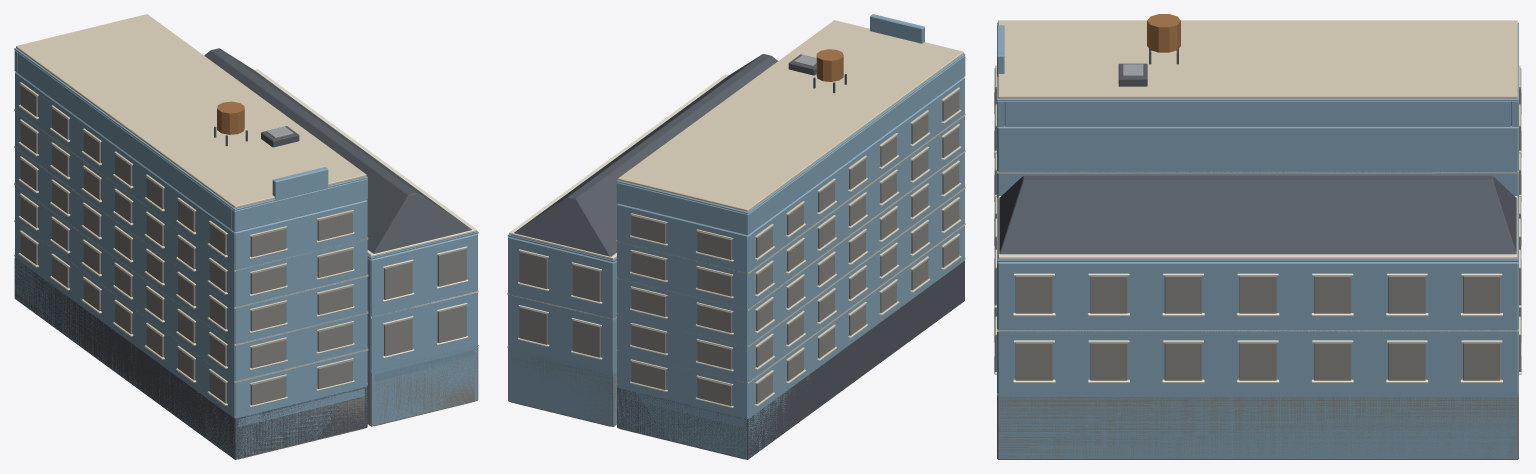
File: VG_Bld_Commercial_05.fbx
3 renders of one model, left to right at view 1: azimuth 30°, elevation 25°; view 2: azimuth 150°, elevation 25°; view 3: azimuth 270°, elevation 25°, orthographic. The views are drawn at different scales.
Visible parts, largest first — view 1: VG_Bld_Commercial_05_Body; view 2: VG_Bld_Commercial_05_Body; view 3: VG_Bld_Commercial_05_Body.
Boxes of the visible parts, x1,y1,x2,y2 form: VG_Bld_Commercial_05_Body: [14, 14, 478, 459]; VG_Bld_Commercial_05_Body: [507, 14, 965, 459]; VG_Bld_Commercial_05_Body: [994, 14, 1521, 459].
Bounding box in the file's own units: 22 × 24.01 × 34.
